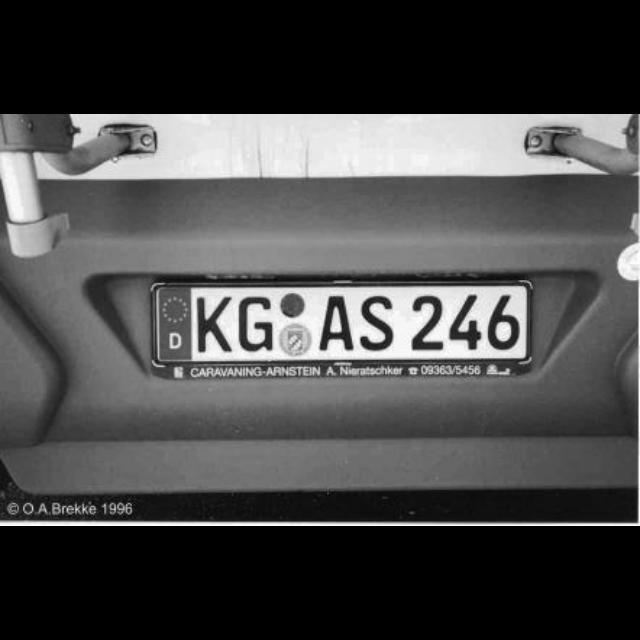licenseplate: (155, 286, 527, 359)
